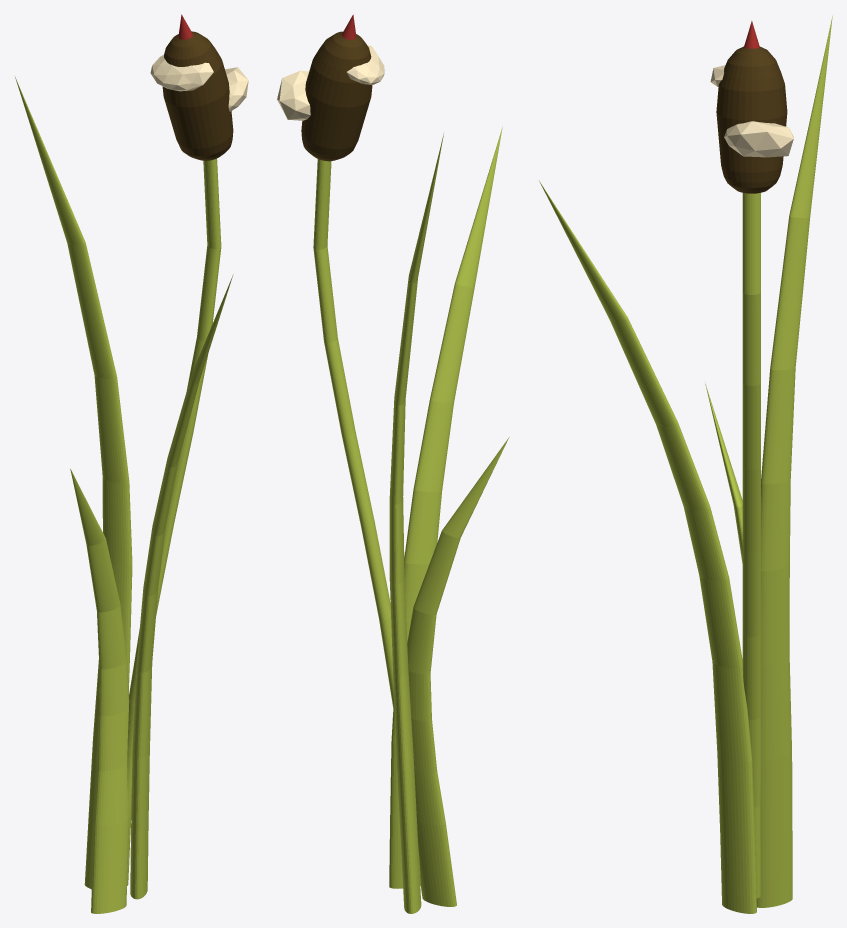
The model's file is Floattail.glb.
The picture shows the model from 3 angles, left to right: view 1: azimuth 30°, elevation 25°; view 2: azimuth 150°, elevation 25°; view 3: azimuth 270°, elevation 25°; orthographic projection. The views are drawn at different scales.
Parts seen in each view (by area): view 1: Grass3, Grass2, Floattail, Grass, Icosphere.001, Icosphere; view 2: Floattail, Grass, Grass3, Grass2, Icosphere, Icosphere.001; view 3: Grass2, Grass, Floattail, Icosphere, Grass3.
Part boxes in pixels (left/top/right/bottom): Grass3: left=70, top=469, right=129, bottom=913; Grass2: left=15, top=77, right=132, bottom=889; Floattail: left=127, top=14, right=233, bottom=885; Grass: left=130, top=274, right=233, bottom=899; Icosphere.001: left=150, top=55, right=213, bottom=91; Icosphere: left=225, top=67, right=248, bottom=111; Floattail: left=301, top=14, right=420, bottom=885; Grass: left=389, top=127, right=502, bottom=888; Grass3: left=407, top=437, right=509, bottom=906; Grass2: left=389, top=133, right=443, bottom=913; Icosphere: left=277, top=70, right=310, bottom=120; Icosphere.001: left=346, top=45, right=384, bottom=84; Grass2: left=756, top=16, right=832, bottom=907; Grass: left=539, top=181, right=756, bottom=913; Floattail: left=716, top=21, right=787, bottom=898; Icosphere: left=724, top=121, right=793, bottom=157; Grass3: left=705, top=382, right=742, bottom=563.
Bounding box in the file's own units: 0.4586 × 1.93 × 0.5588.
Materials: 3 (3 with a texture image).
